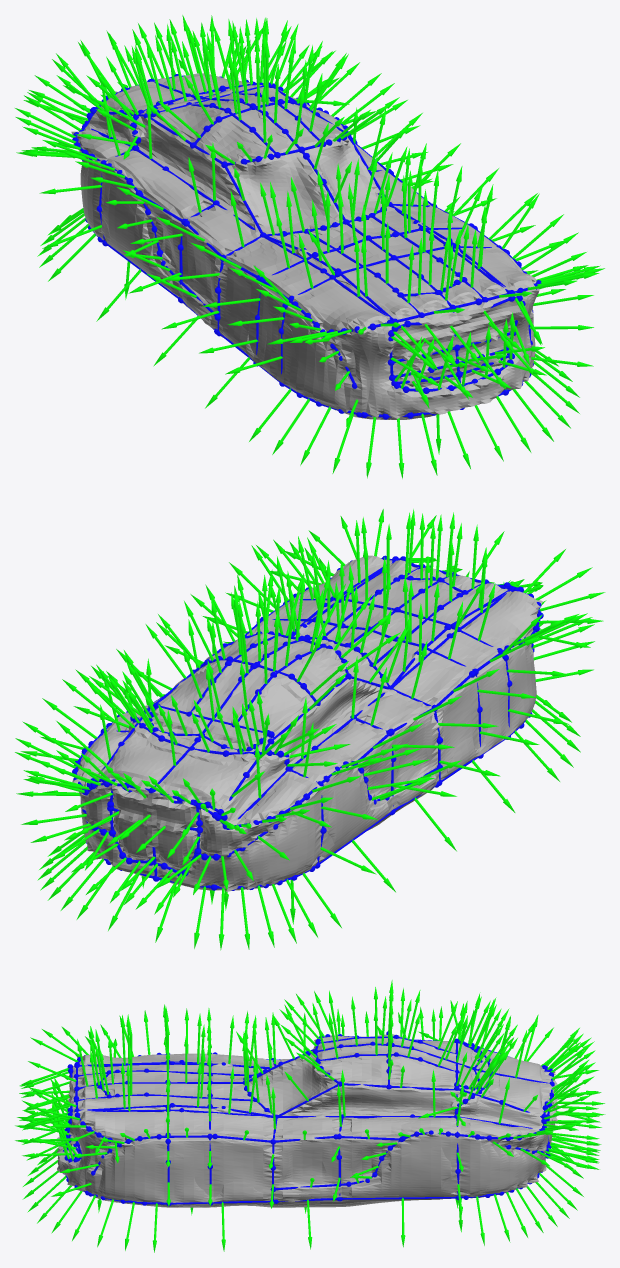
File: t2f_car_97.gltf
3 views of the same model, one above another, from view 1: azimuth 30°, elevation 25°; view 2: azimuth 150°, elevation 25°; view 3: azimuth 270°, elevation 25° (orthographic). The views are drawn at different scales.
Size of the model in its own units: 0.5738 by 0.4444 by 1.08.
